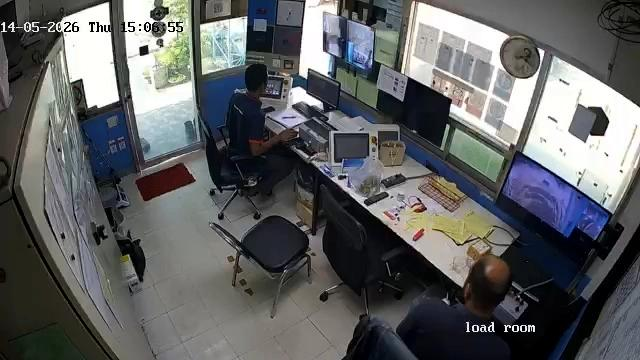Head: (461, 252, 512, 313), (244, 62, 269, 95)
People: (394, 249, 527, 360), (223, 59, 299, 210)
Phone: (261, 106, 277, 114)
